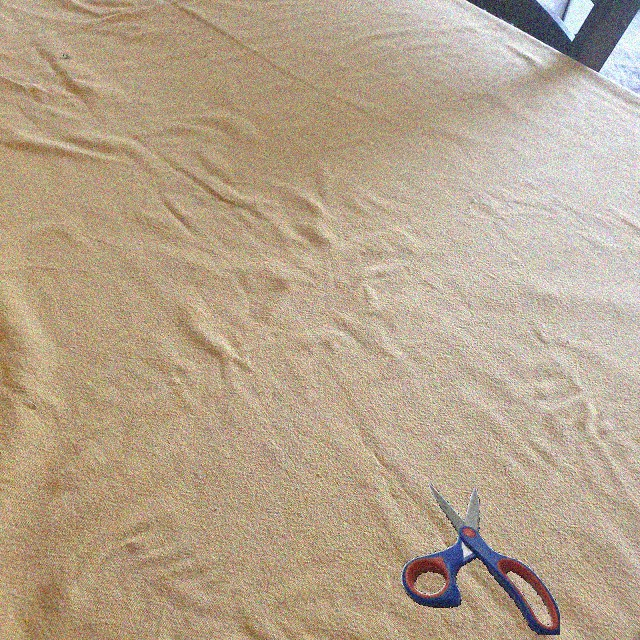scissors: (400, 483, 560, 635)
